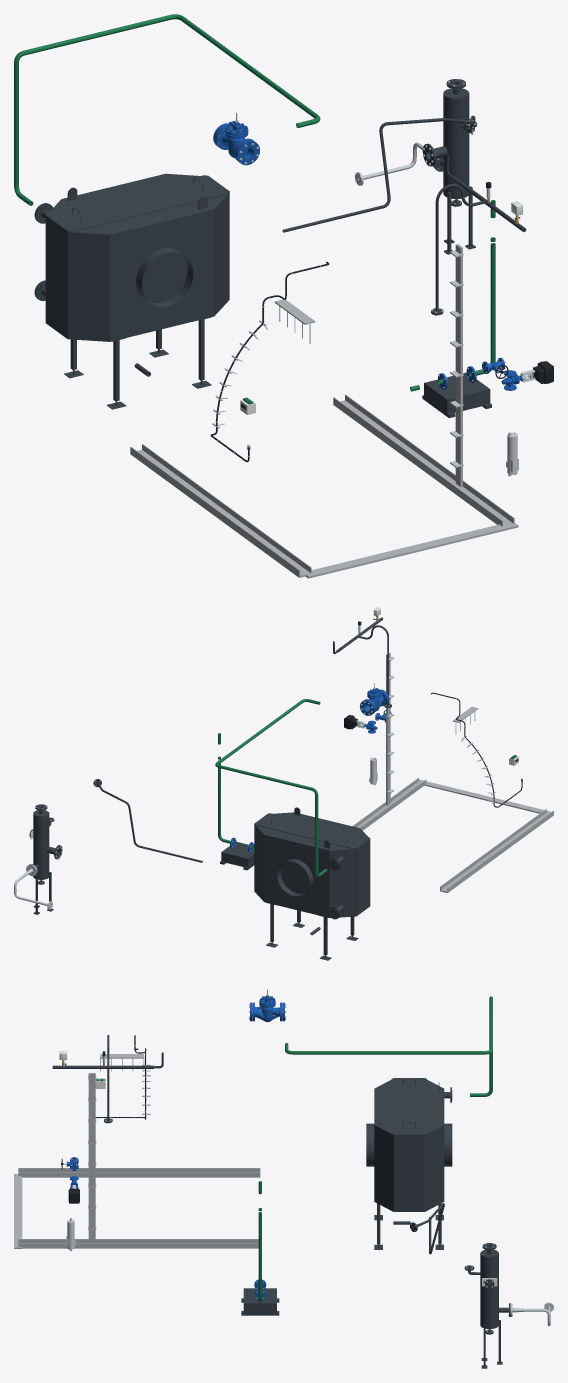
The picture shows the model from 3 angles, top to bottom: view 1: azimuth 30°, elevation 25°; view 2: azimuth 150°, elevation 25°; view 3: azimuth 270°, elevation 25°; orthographic projection. The views are drawn at different scales.
Parts seen in each view (by area): view 1: economizer CAD solid 0, economizer CAD solid 3, cables / zinc, economizer CAD solid 1, separator_fv8 / dark, from_economizer / green, pump_branch_2 / dark, pressure_header / dark, tds_without_fv / dark, pump_branch_2 / green, gpz CAD solid 0, cables / steel (+1 smaller); view 2: economizer CAD solid 0, economizer CAD solid 3, cables / zinc, economizer CAD solid 2, separator_fv8 / dark, from_economizer / green, pump_branch_2 / dark, pressure_header / dark, tds_without_fv / dark; view 3: economizer CAD solid 3, cables / zinc, separator_fv8 / dark, from_economizer / green, economizer CAD solid 0, pump_branch_2 / dark, pressure_header / dark, gpz CAD solid 0.
Boxes of the visible parts, x1,y1,x2,y2 form: economizer CAD solid 0: (64,177,214,409); economizer CAD solid 3: (45,173,229,338); cables / zinc: (130,244,518,578); economizer CAD solid 1: (67,232,109,341); separator_fv8 / dark: (422,79,477,254); from_economizer / green: (14,14,320,205); pump_branch_2 / dark: (422,372,491,417); pressure_header / dark: (431,153,526,315); tds_without_fv / dark: (282,115,475,232); pump_branch_2 / green: (410,200,495,391); gpz CAD solid 0: (215,112,253,160); cables / steel: (212,250,463,467); economizer CAD solid 0: (264,835,358,960); economizer CAD solid 3: (254,807,370,916); cables / zinc: (352,652,553,892); economizer CAD solid 2: (328,849,356,919); separator_fv8 / dark: (29,804,62,914); from_economizer / green: (215,699,327,876); pump_branch_2 / dark: (220,841,254,870); pressure_header / dark: (333,617,391,707); tds_without_fv / dark: (93,779,202,862); economizer CAD solid 3: (374,1078,443,1211); cables / zinc: (14,1054,260,1248); separator_fv8 / dark: (464,1243,510,1368); from_economizer / green: (285,996,492,1096); economizer CAD solid 0: (366,1089,452,1249); pump_branch_2 / dark: (241,1288,279,1315); pressure_header / dark: (52,1035,163,1123); gpz CAD solid 0: (252,989,282,1022).
Bounding box in the file's own units: 4.91 × 3.16 × 6.36.
